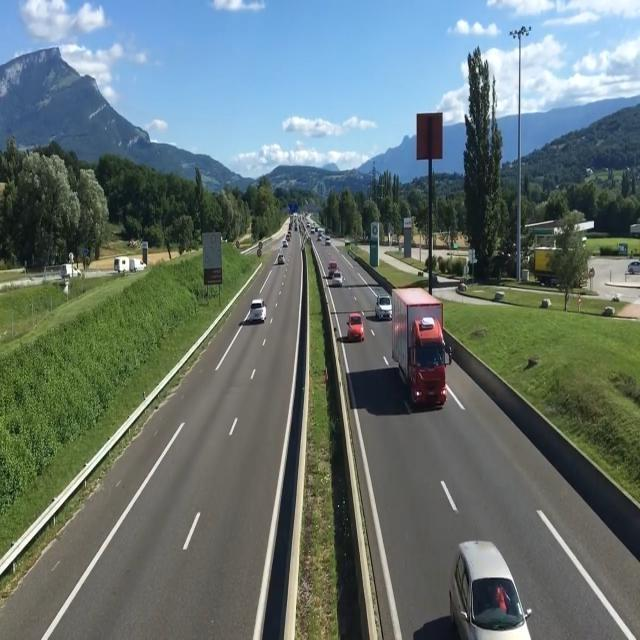Car: (446, 538, 534, 640), (345, 313, 365, 342), (248, 298, 268, 323), (375, 294, 393, 320), (331, 272, 343, 286), (278, 254, 285, 265)
Truck: (391, 286, 454, 408)
